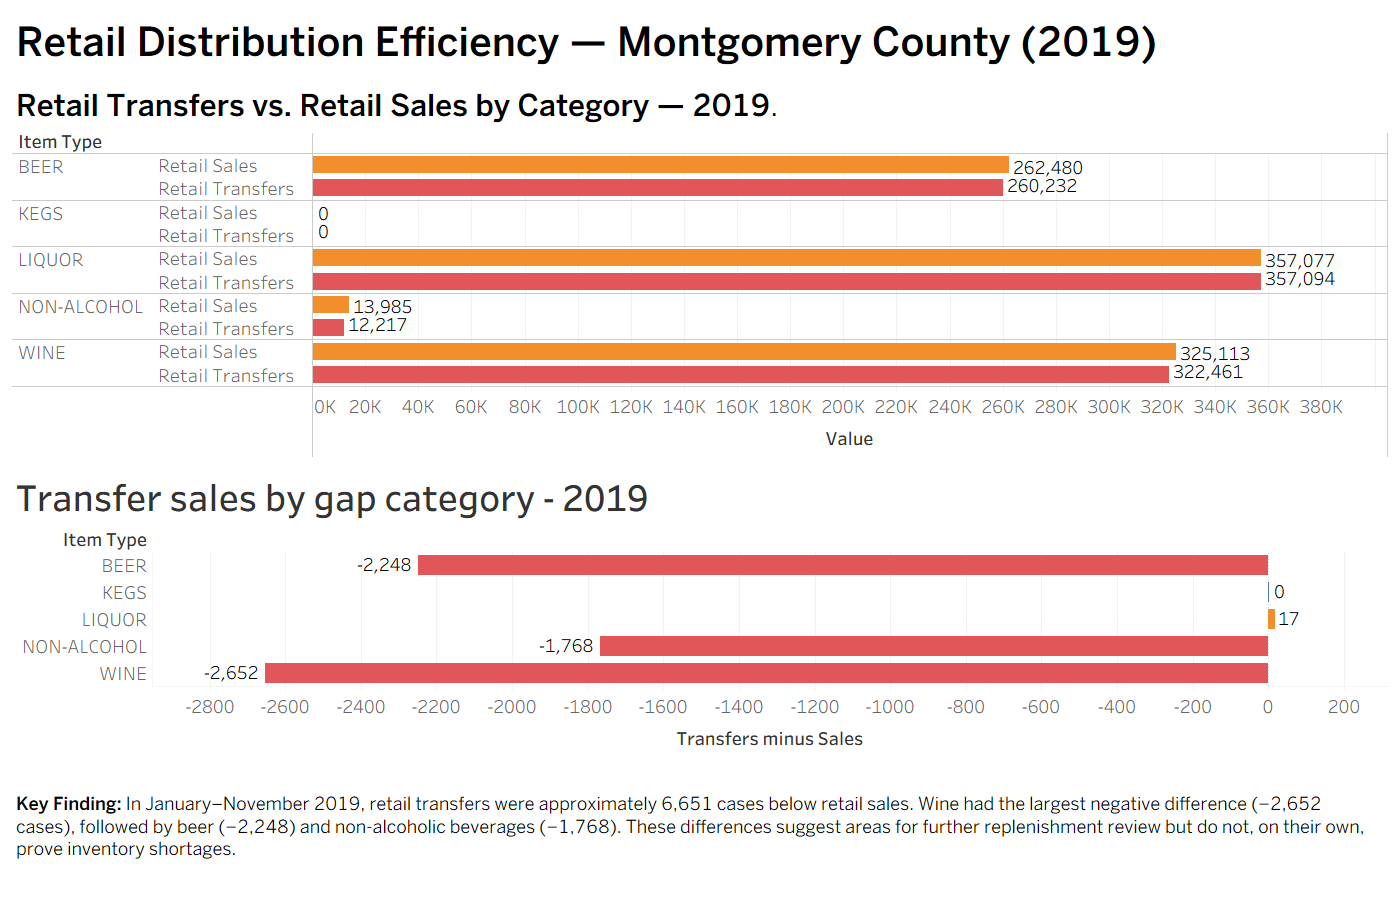

This screenshot's page, from the dashboard's own definition file:
{"tool":"tableau","page":{"name":"Dashboard 2 Retail Distribution ","canvas":[1400,900],"ordinal":1},"visuals":[{"type":"text","box":[8,8,1384,68]},{"type":"worksheet","title":"Transfers vs Sales by Category","mark":"Bar","rows":["ITEM TYPE"],"box":[8,76,1384,386]},{"type":"worksheet","title":"Transfer Sales Gap by Category","mark":"Automatic","rows":["ITEM TYPE"],"cols":["Calculation_0850264488054784"],"box":[8,462,1384,299]},{"type":"text","box":[8,761,1384,131]}]}

Visuals, with their boxes in screenshot pixels (x1, y1, x2, y2), scaled from the page's 1400x900 canvas onto the 1400x900 screenshot:
text: l=8, t=8, r=1392, b=76
"Transfers vs Sales by Category" worksheet (Bar marks): l=8, t=76, r=1392, b=462
"Transfer Sales Gap by Category" worksheet: l=8, t=462, r=1392, b=761
text: l=8, t=761, r=1392, b=892
